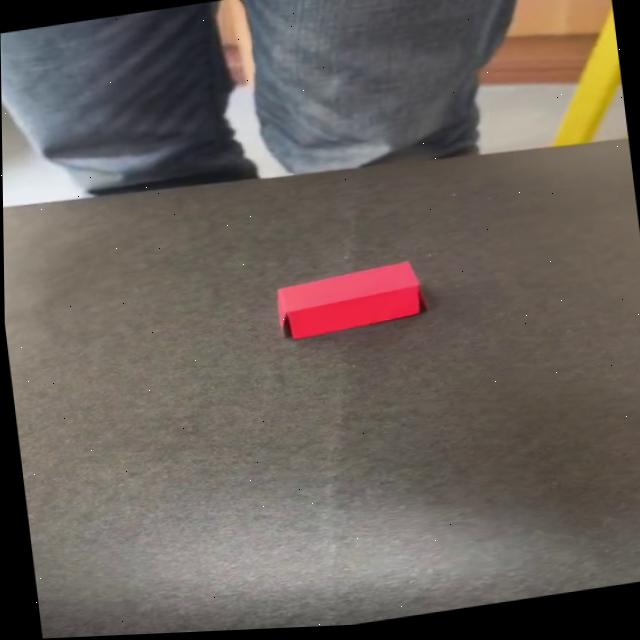red block: (270, 256, 424, 341)
